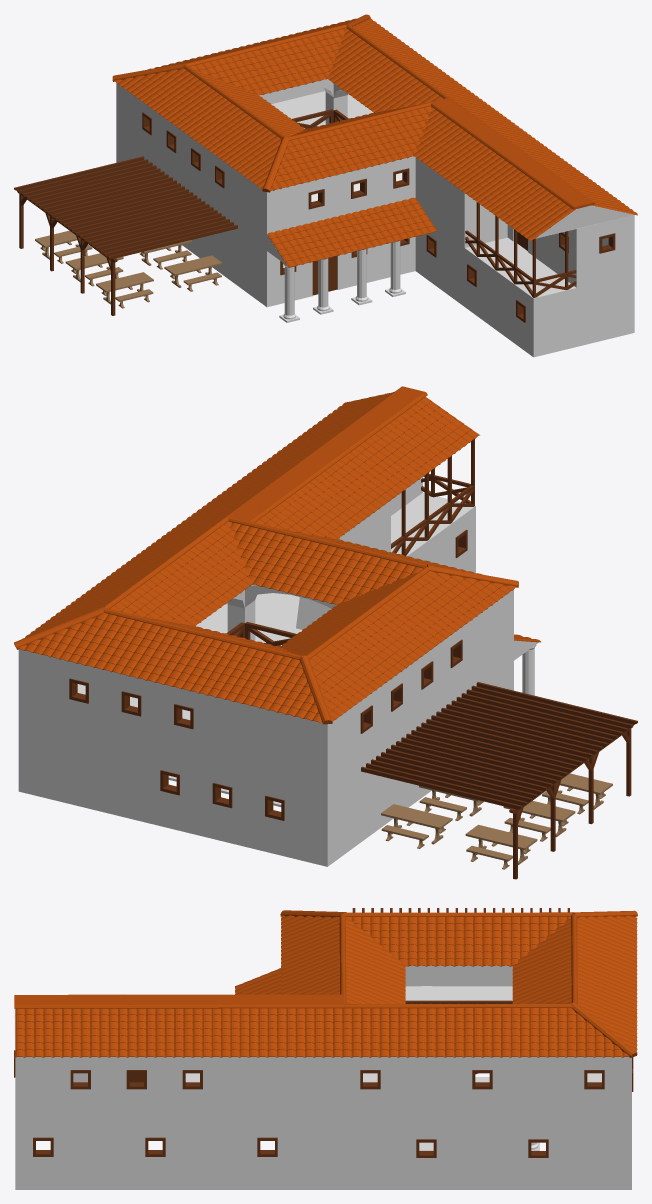
File: Wirtshaus.fbx
The picture shows the model from 3 angles, top to bottom: view 1: azimuth 30°, elevation 25°; view 2: azimuth 150°, elevation 25°; view 3: azimuth 270°, elevation 25°; orthographic projection. The views are drawn at different scales.
Parts seen in each view (by area): view 1: Wirtshaus Stock1, Wirtshaus Stock0, Dach, Bänke, Ziwschenboden, Innenleben; view 2: Wirtshaus Stock1, Wirtshaus Stock0, Dach, Bänke, Ziwschenboden, Innenleben; view 3: Wirtshaus Stock1, Wirtshaus Stock0, Ziwschenboden, Innenleben.
Part boxes in pixels (<box>): Wirtshaus Stock1: <box>112,14,637,322</box>; Wirtshaus Stock0: <box>116,141,634,357</box>; Dach: <box>14,156,237,315</box>; Bänke: <box>35,230,222,308</box>; Ziwschenboden: <box>271,91,575,296</box>; Innenleben: <box>259,79,348,129</box>; Wirtshaus Stock1: <box>14,386,540,797</box>; Wirtshaus Stock0: <box>18,493,513,866</box>; Dach: <box>361,682,637,879</box>; Bänke: <box>381,773,612,869</box>; Ziwschenboden: <box>77,493,468,719</box>; Innenleben: <box>168,584,336,806</box>; Wirtshaus Stock1: <box>14,910,637,1122</box>; Wirtshaus Stock0: <box>15,986,633,1189</box>; Ziwschenboden: <box>185,986,601,1082</box>; Innenleben: <box>405,965,539,1150</box>.
Size of the model in its own units: 2174 by 786 by 2671.
